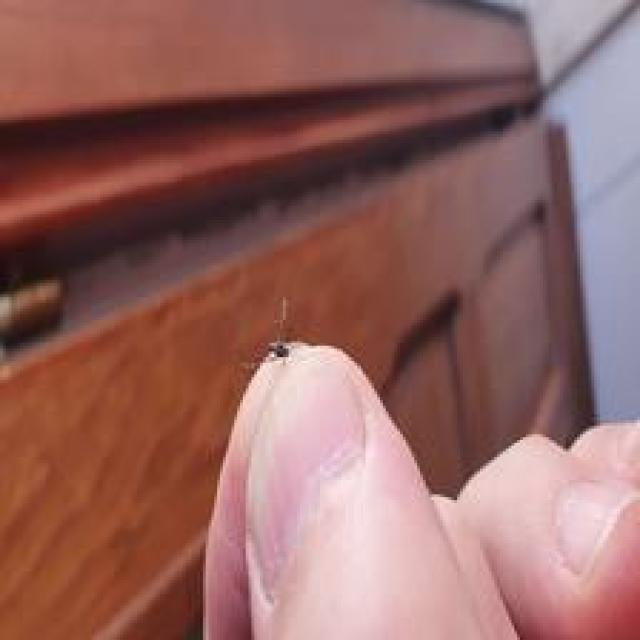Aedes albopictus: (0, 270, 66, 364)
